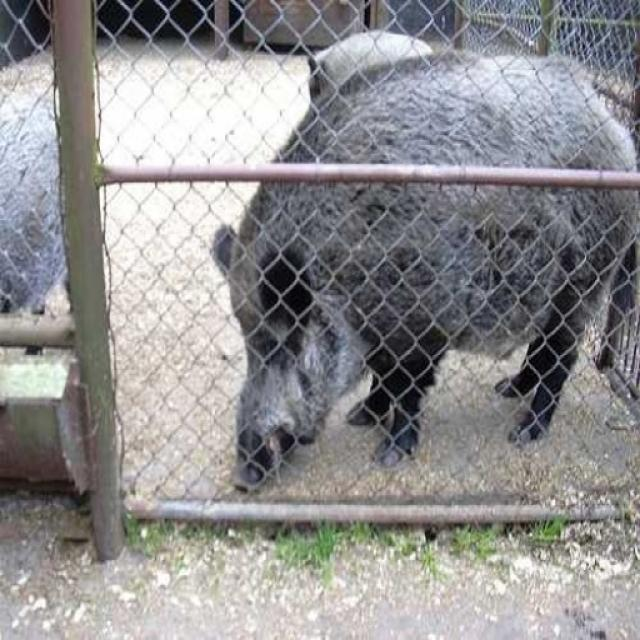pig: (179, 7, 640, 479)
